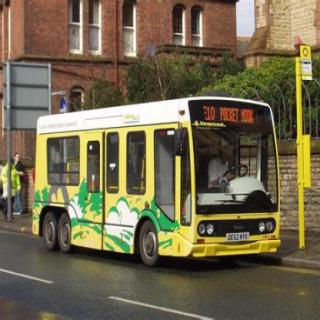Normal_vehicle: (27, 82, 308, 292)
